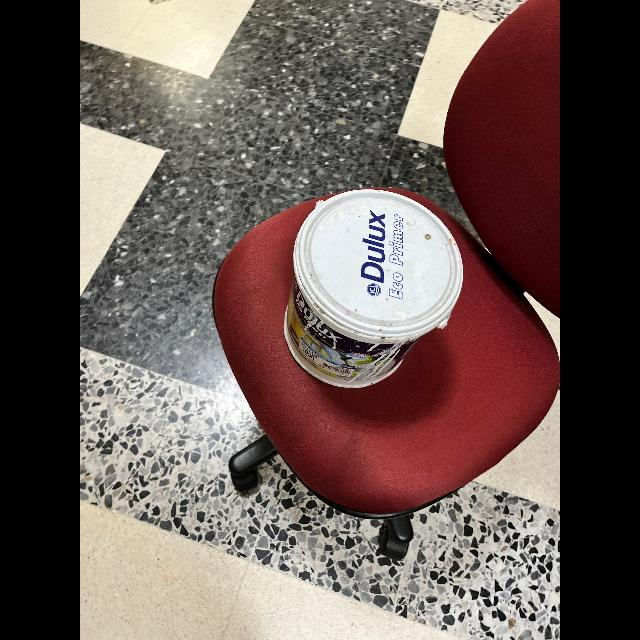paint_bucket: (276, 178, 460, 400)
